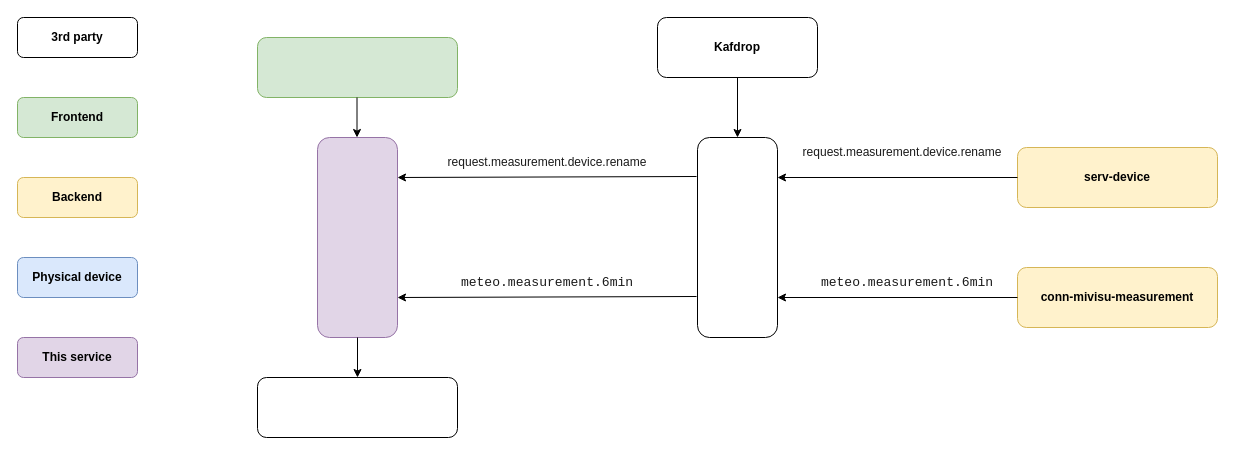
Image size: 1235x455. Some labels were removed from this diagram. The centre of each missing label's shape, as x and y in pixels:
"Kafka" goes at point 737,237.
"postgres-db" goes at point 357,407.
"Web-operator" goes at point 357,67.
